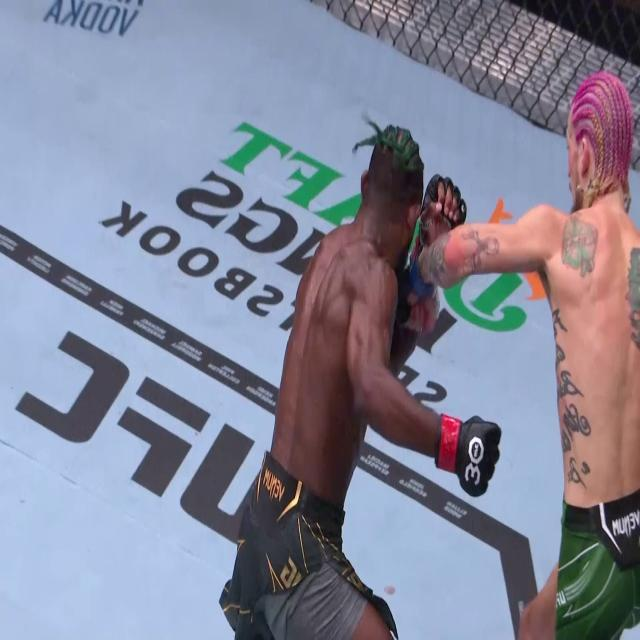violence: (316, 72, 634, 640)
